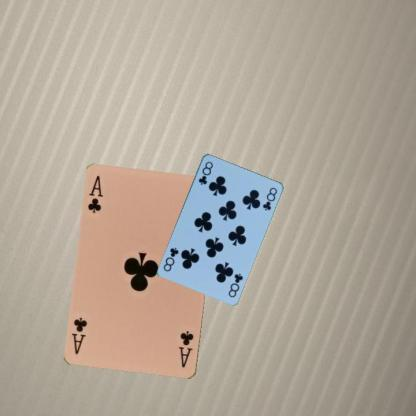8c: (196, 158, 214, 186), (226, 271, 244, 298)
Ac: (86, 173, 104, 215), (177, 328, 195, 369)
